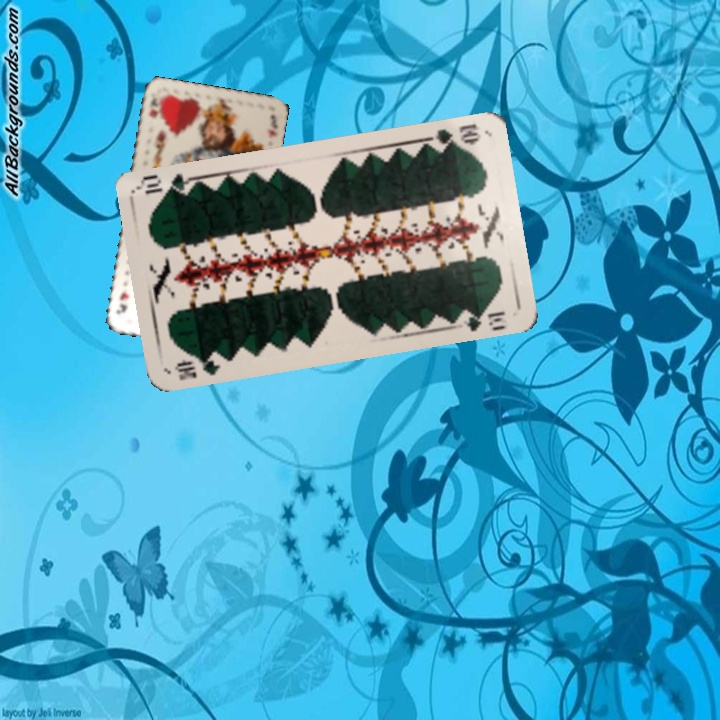G10: (424, 119, 484, 152), (170, 351, 223, 383)
HK: (145, 91, 162, 121)
